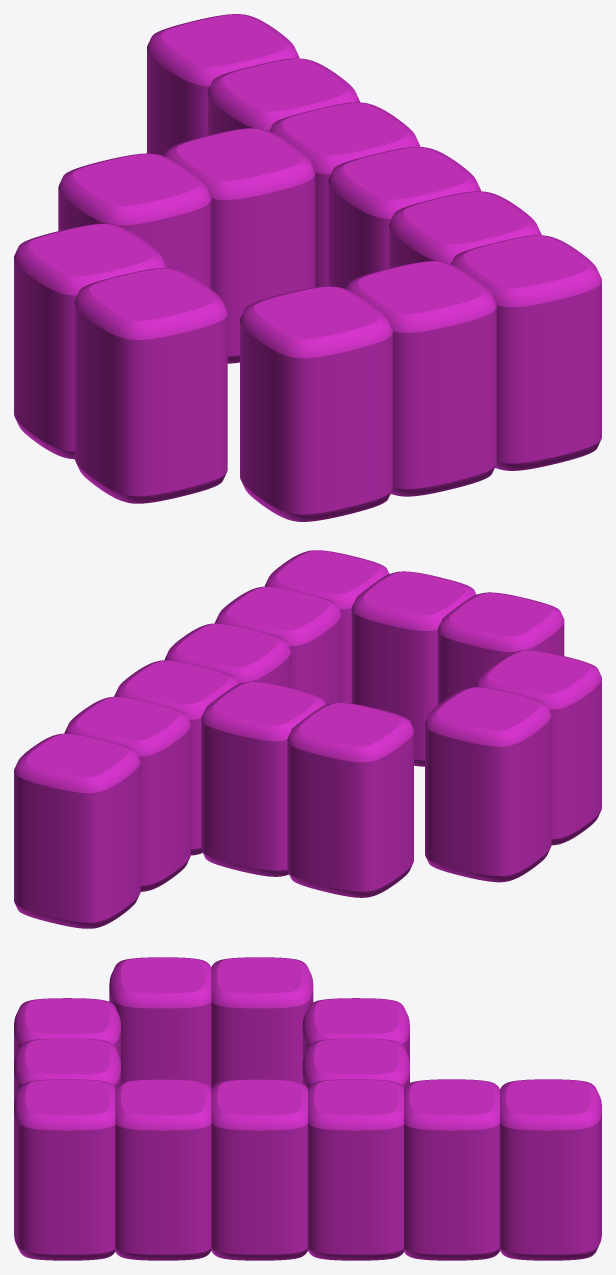
The model's file is Letter_P.fbx.
3 views of the same model, one above another, from view 1: azimuth 30°, elevation 25°; view 2: azimuth 150°, elevation 25°; view 3: azimuth 270°, elevation 25° (orthographic). The views are drawn at different scales.
Parts seen in each view (by area): view 1: Letter_P; view 2: Letter_P; view 3: Letter_P.
Part boxes in pixels (box(x1,y1,x2,y2)): Letter_P: box(14, 14, 601, 521); Letter_P: box(14, 550, 601, 928); Letter_P: box(14, 957, 601, 1260).
Bounding box in the file's own units: 0.3465 × 0.14 × 0.5146.
